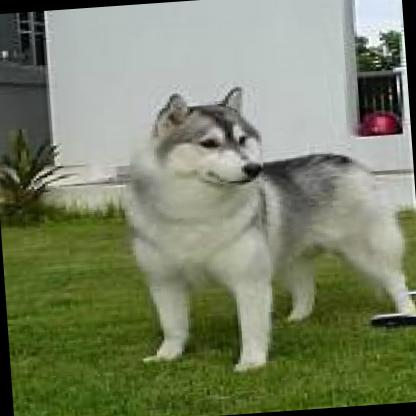Eskimo_dog: (108, 75, 416, 378)
